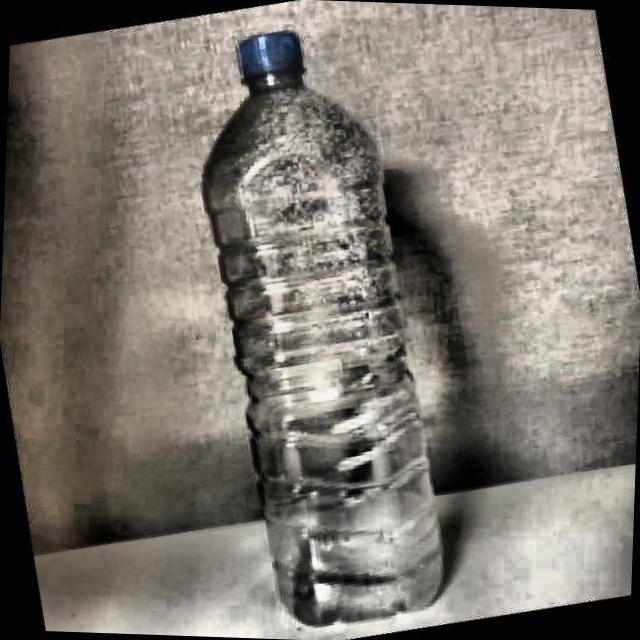plastic bottle: (202, 30, 443, 625)
